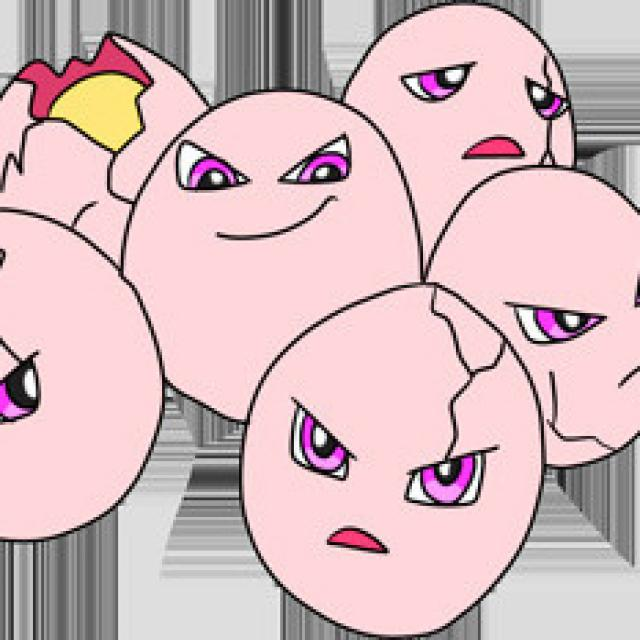Exeggcute: (6, 43, 634, 618)
